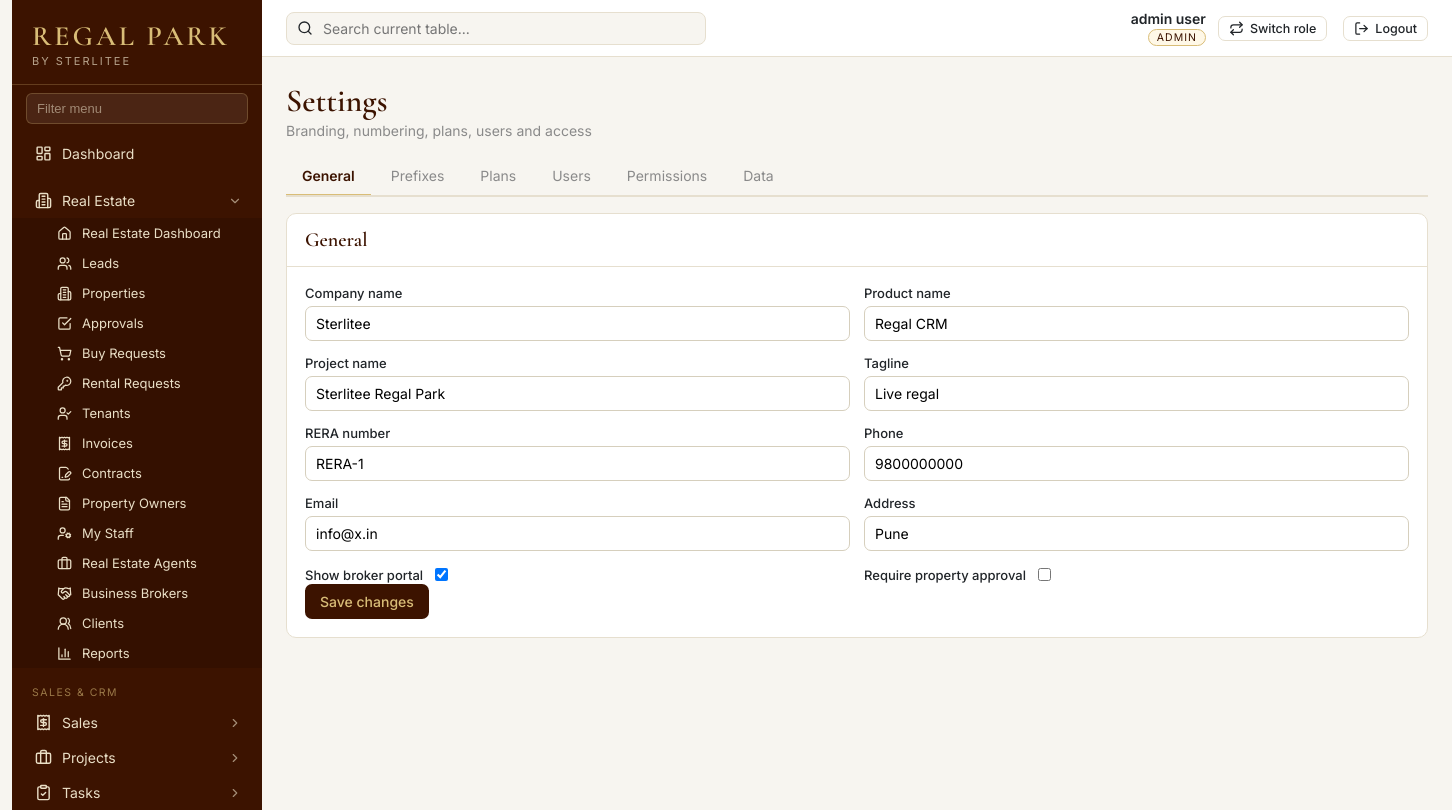
Test: General tab › PUT 400 -> error toast, no crash
Check: the button "Logout" is shown, box top-left (1343, 16), bottom-right (1428, 40)
Check: the heading "Settings" is shown, box top-left (286, 81), bottom-right (388, 120)
Click the button "Save changes" at (367, 602), box top-left (305, 584), bottom-right (429, 619)
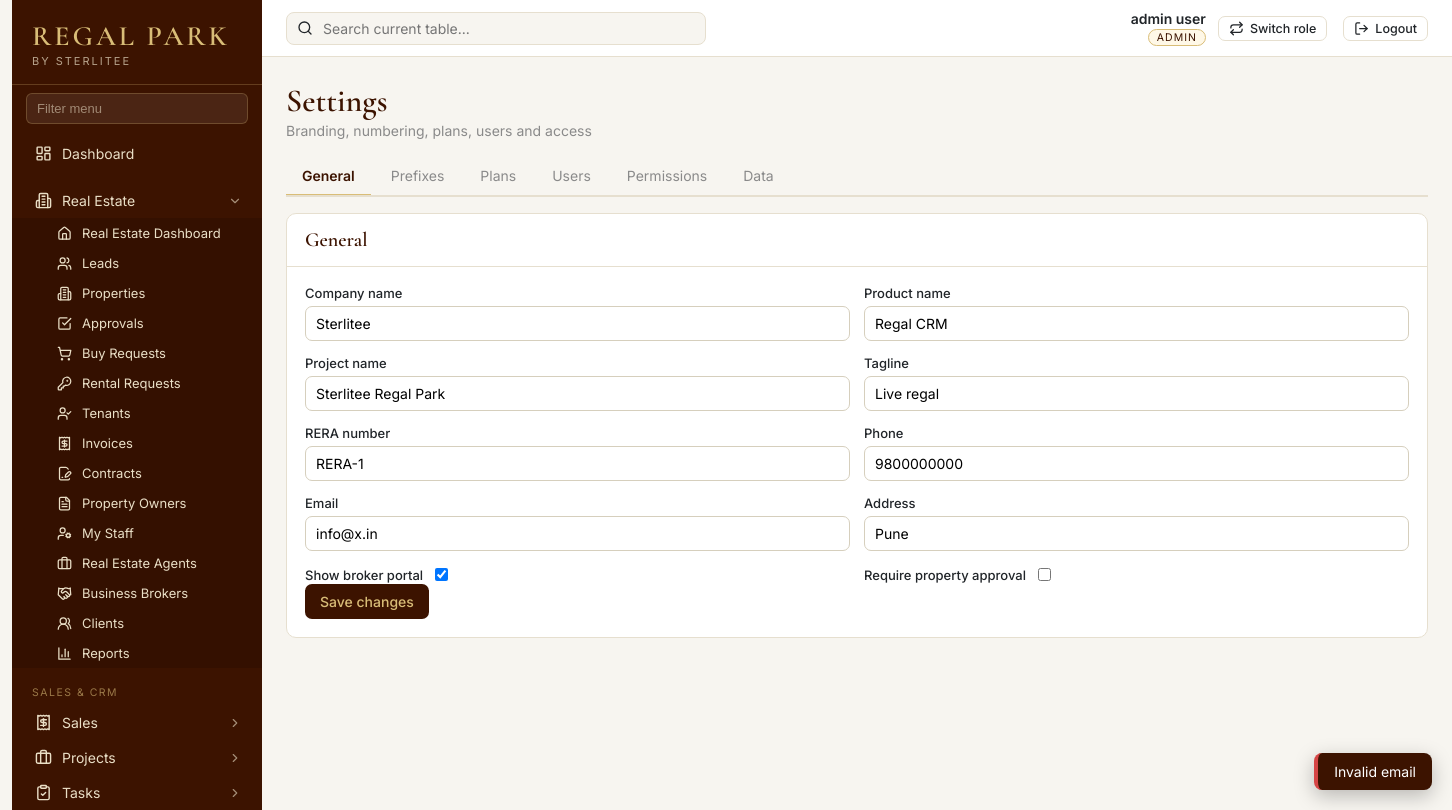
Check: the field labelled "Company name" is shown, box top-left (305, 306), bottom-right (850, 341)
Check: the text "Invalid email" is shown, box top-left (1314, 753), bottom-right (1432, 790)
